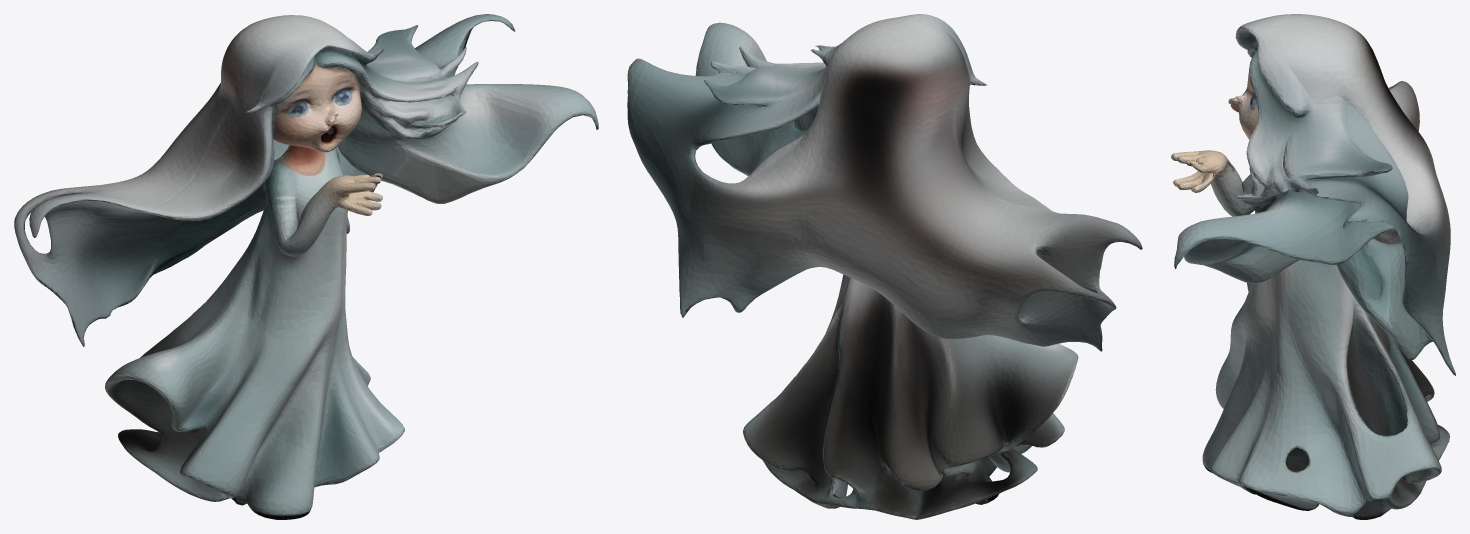
Rendered from banshee.glb.
3 views of the same model, side by side, from view 1: azimuth 30°, elevation 25°; view 2: azimuth 150°, elevation 25°; view 3: azimuth 270°, elevation 25° (orthographic). The views are drawn at different scales.
Parts seen in each view (by area): view 1: world; view 2: world; view 3: world.
Part boxes in pixels (<box>): world: <box>14,14,598,519</box>; world: <box>627,14,1142,519</box>; world: <box>1171,14,1455,519</box>.
Bounding box in the file's own units: 0.9999 × 0.8713 × 0.4802.
Materials: 1 (1 with a texture image).
